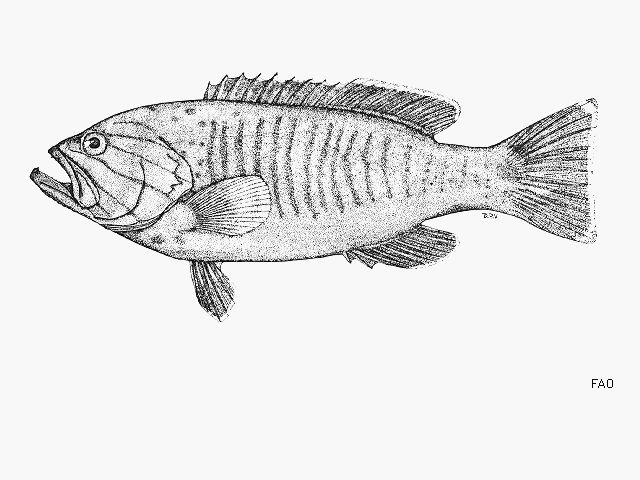fish: (30, 72, 600, 320)
